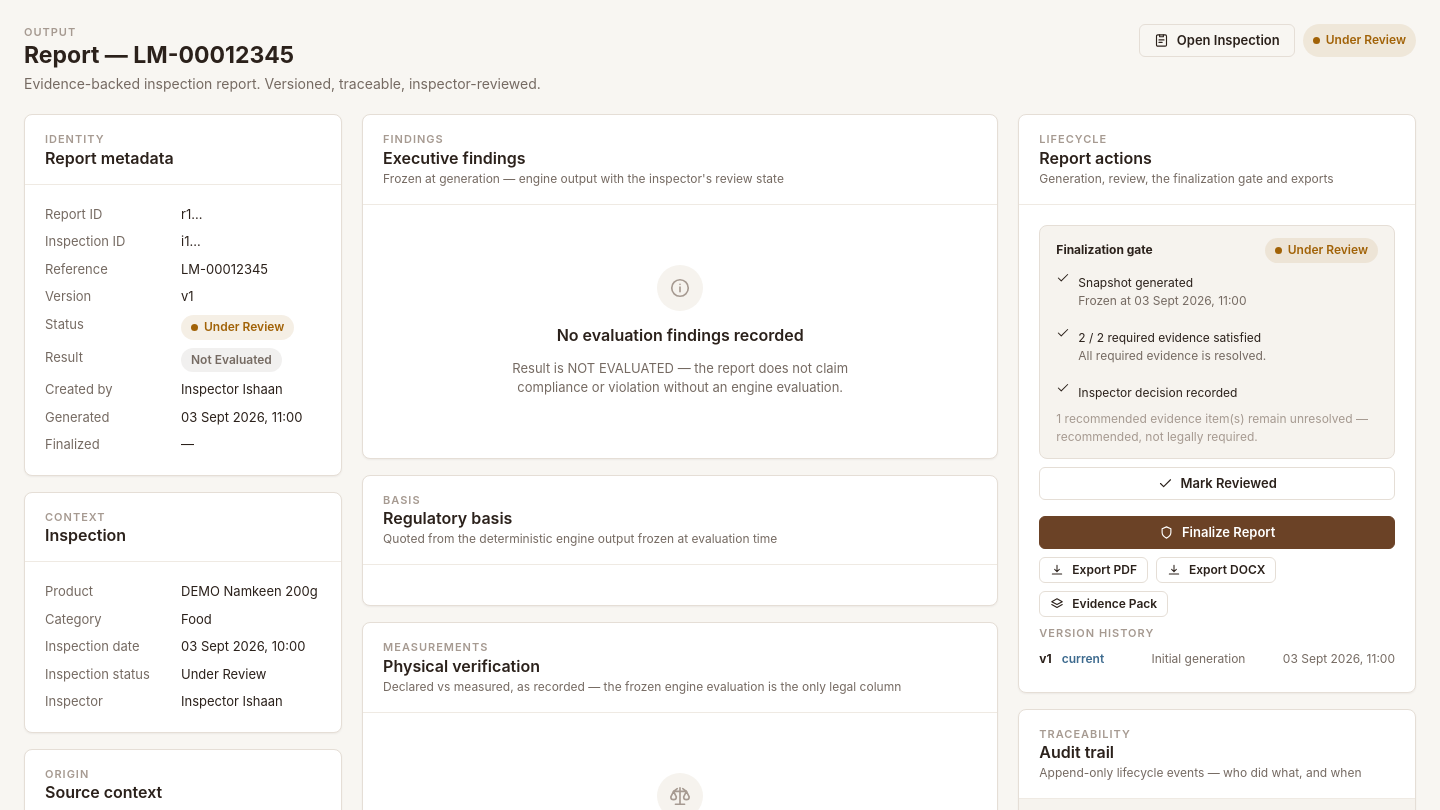
Test: ReportDetailPage (UI-08) › surfaces backend gate rejections honestly (no fake success)
Click the button "Finalize Report": point(1217, 532) left=1039, top=516, right=1395, bottom=548
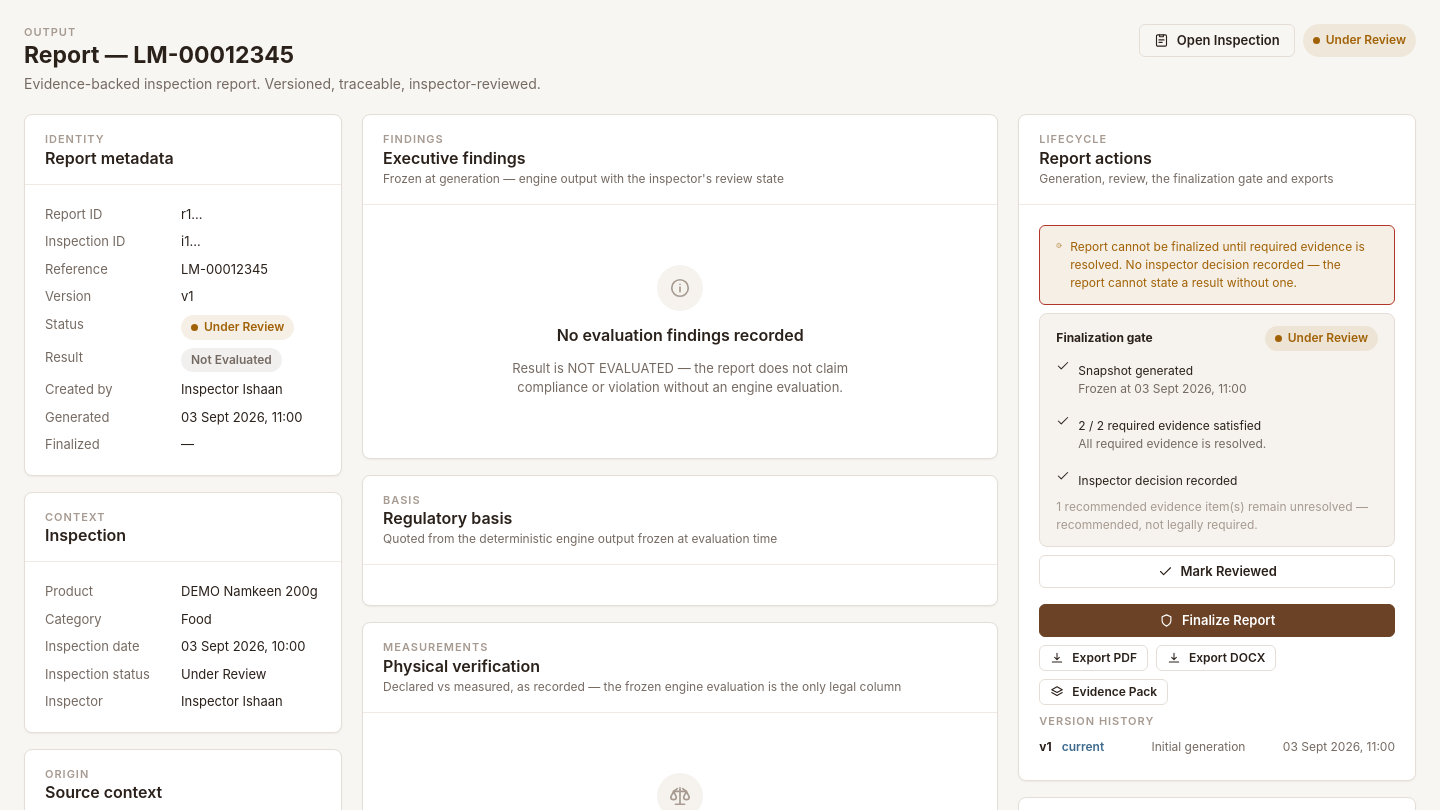
Expected: the message shows "Report cannot be finalized until required evidence is resolved", left=1070, top=239, right=1365, bottom=290
